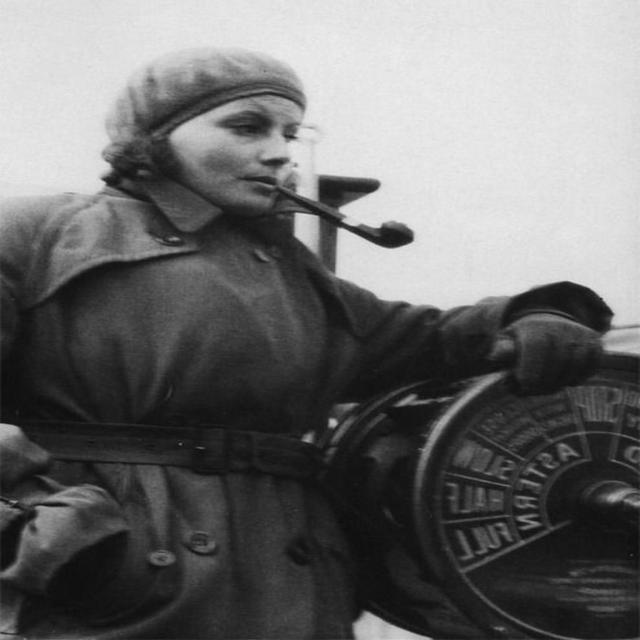smoking: (122, 40, 416, 249)
